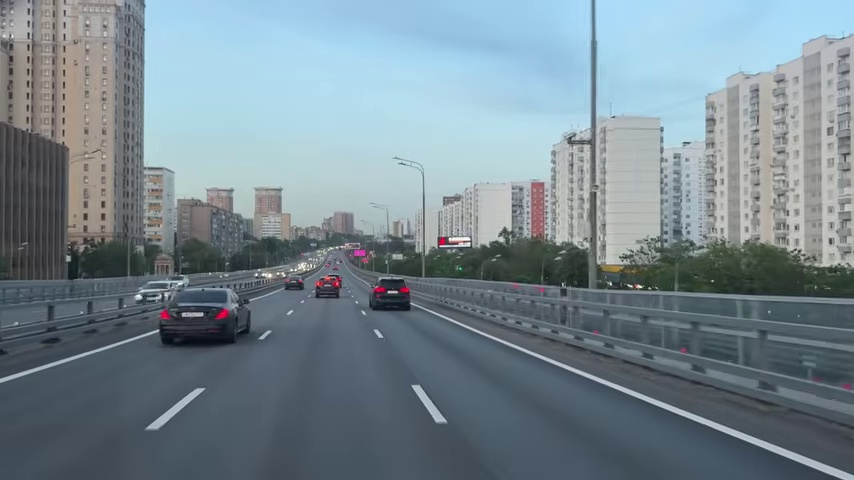apagada: (393, 154, 408, 169)
